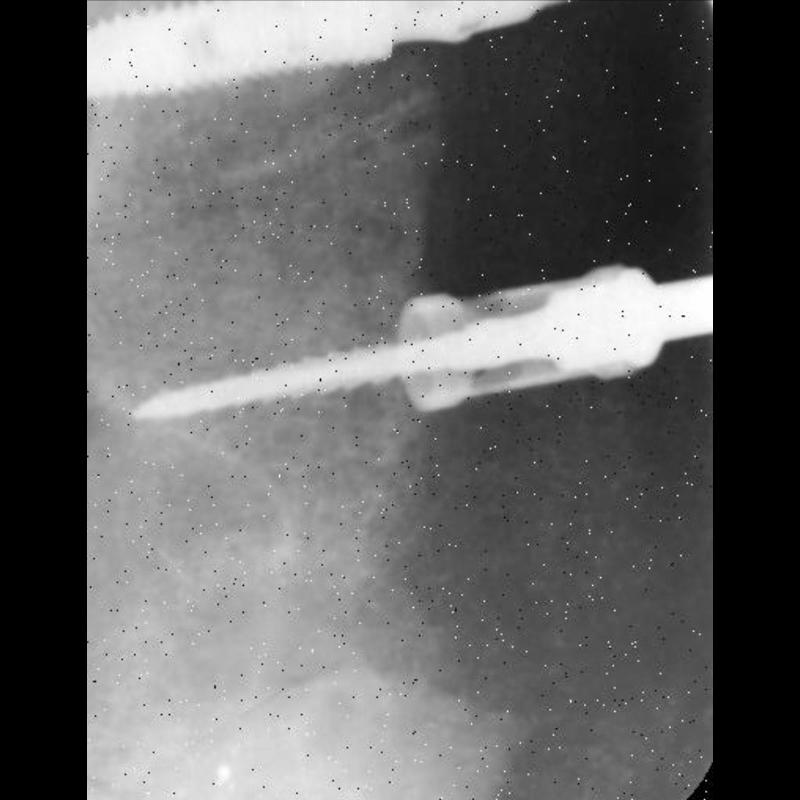Dentium: (88, 1, 390, 112)
